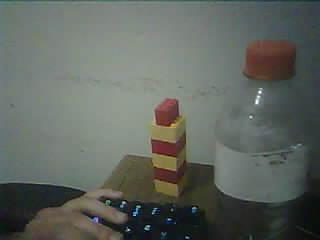lego: (149, 96, 189, 197)
